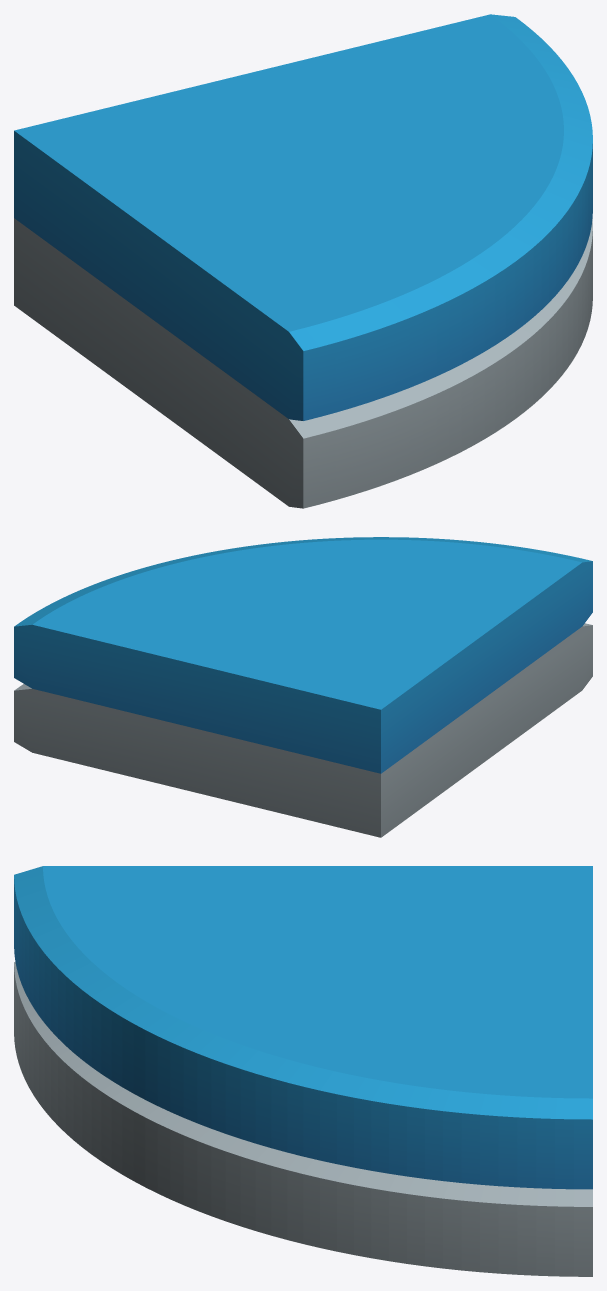
The model's file is kaykit_platform_quarter_circle_3x3x1_blue.glb.
3 renders of one model, top to bottom at view 1: azimuth 30°, elevation 25°; view 2: azimuth 150°, elevation 25°; view 3: azimuth 270°, elevation 25°, orthographic. The views are drawn at different scales.
Parts seen in each view (by area): view 1: kaykit_platform_quarter_circle_blue_visual; view 2: kaykit_platform_quarter_circle_blue_visual; view 3: kaykit_platform_quarter_circle_blue_visual.
Part boxes in pixels (x1=…): kaykit_platform_quarter_circle_blue_visual: x1=14, y1=14, x2=592, y2=508; kaykit_platform_quarter_circle_blue_visual: x1=14, y1=537, x2=592, y2=837; kaykit_platform_quarter_circle_blue_visual: x1=14, y1=866, x2=592, y2=1276.
Size of what is drawn, in the model's own units: 3 by 1 by 3.
1 material, 1 textured.
